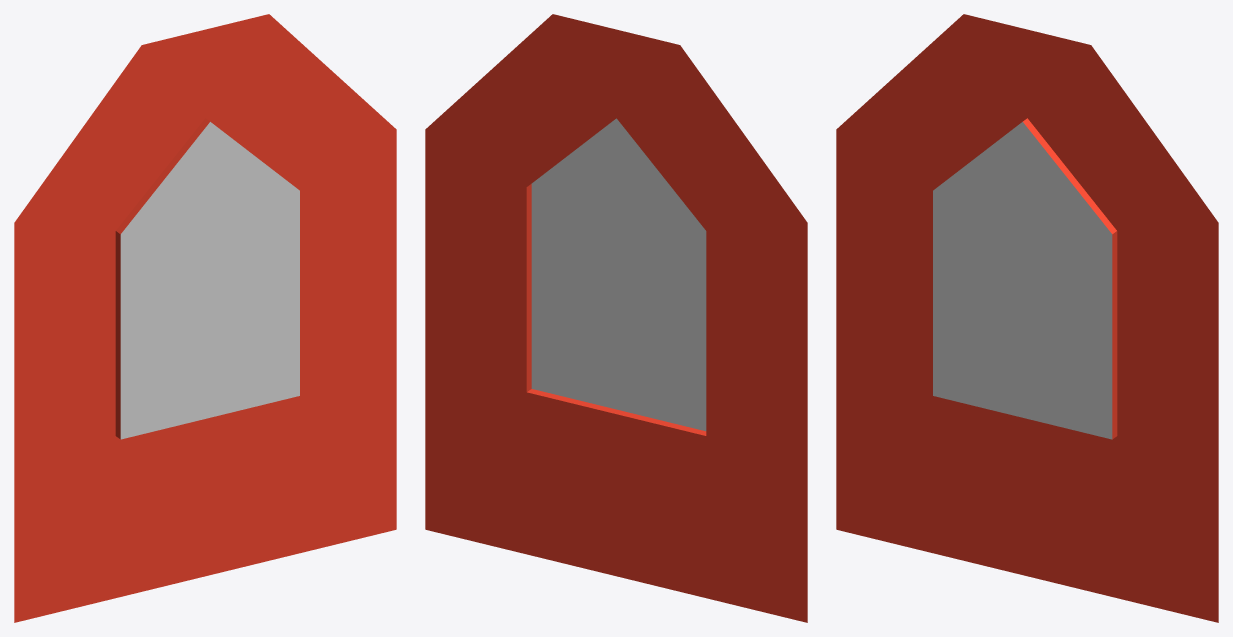
The model's file is windowWallTall.fbx.
3 views of the same model, side by side, from view 1: azimuth 30°, elevation 25°; view 2: azimuth 150°, elevation 25°; view 3: azimuth 330°, elevation 25° (orthographic).
Parts seen in each view (by area): view 1: WindowWallTall; view 2: WindowWallTall; view 3: WindowWallTall.
Part boxes in pixels (x1=…): WindowWallTall: x1=14, y1=14, x2=396, y2=622; WindowWallTall: x1=425, y1=14, x2=807, y2=622; WindowWallTall: x1=836, y1=14, x2=1218, y2=622.
Bounding box in the file's own units: 200 × 273 × 4.38.
